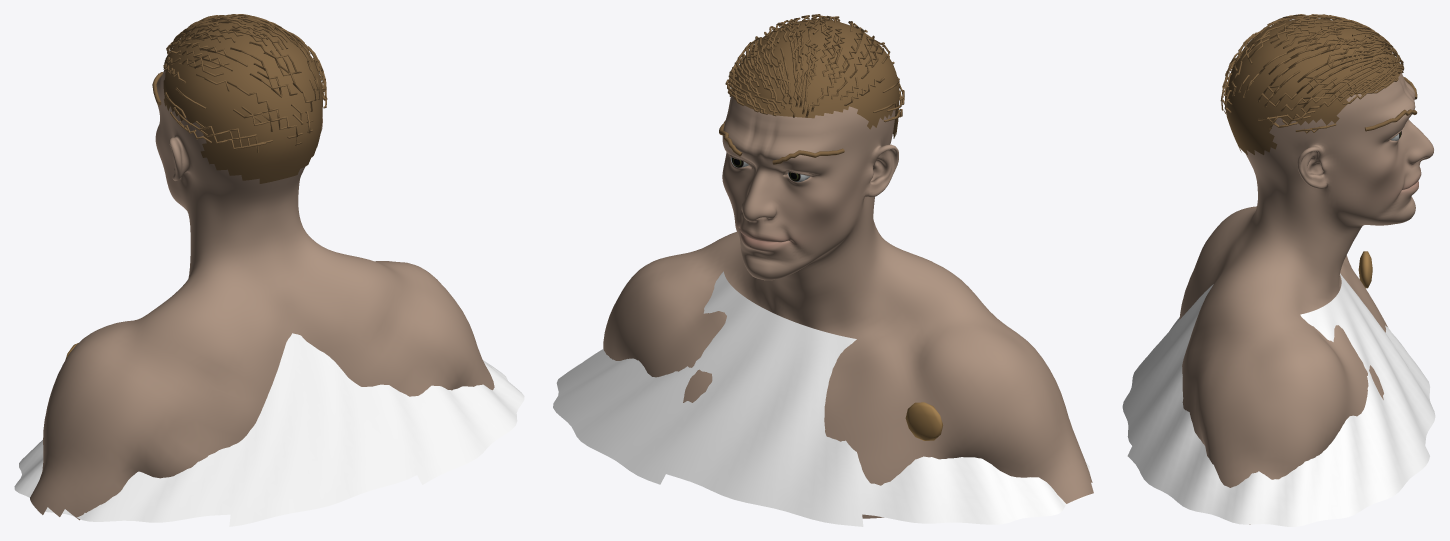
Rendered from envoy_014.glb.
The picture shows the model from 3 angles, left to right: view 1: azimuth 30°, elevation 25°; view 2: azimuth 150°, elevation 25°; view 3: azimuth 270°, elevation 25°; orthographic projection. The views are drawn at different scales.
Visible parts, largest first — view 1: Envoy 014 body, Folded shoulder mantle, Envoy 014 fitted scalp; view 2: Envoy 014 body, Folded shoulder mantle, Envoy 014 fitted scalp, Shoulder clasp; view 3: Envoy 014 body, Folded shoulder mantle, Envoy 014 fitted scalp, Shoulder clasp.
Boxes of the visible parts, <box> form: Envoy 014 body: <box>30,69,494,520</box>; Folded shoulder mantle: <box>14,333,524,526</box>; Envoy 014 fitted scalp: <box>163,19,322,183</box>; Envoy 014 body: <box>603,96,1093,518</box>; Folded shoulder mantle: <box>553,271,1089,526</box>; Envoy 014 fitted scalp: <box>731,19,899,138</box>; Shoulder clasp: <box>905,402,942,440</box>; Envoy 014 body: <box>1179,73,1433,524</box>; Folded shoulder mantle: <box>1122,273,1435,526</box>; Envoy 014 fitted scalp: <box>1225,18,1400,154</box>; Shoulder clasp: <box>1358,251,1372,288</box>.
Size of the model in its own units: 0.3039 by 0.2464 by 0.1768.
